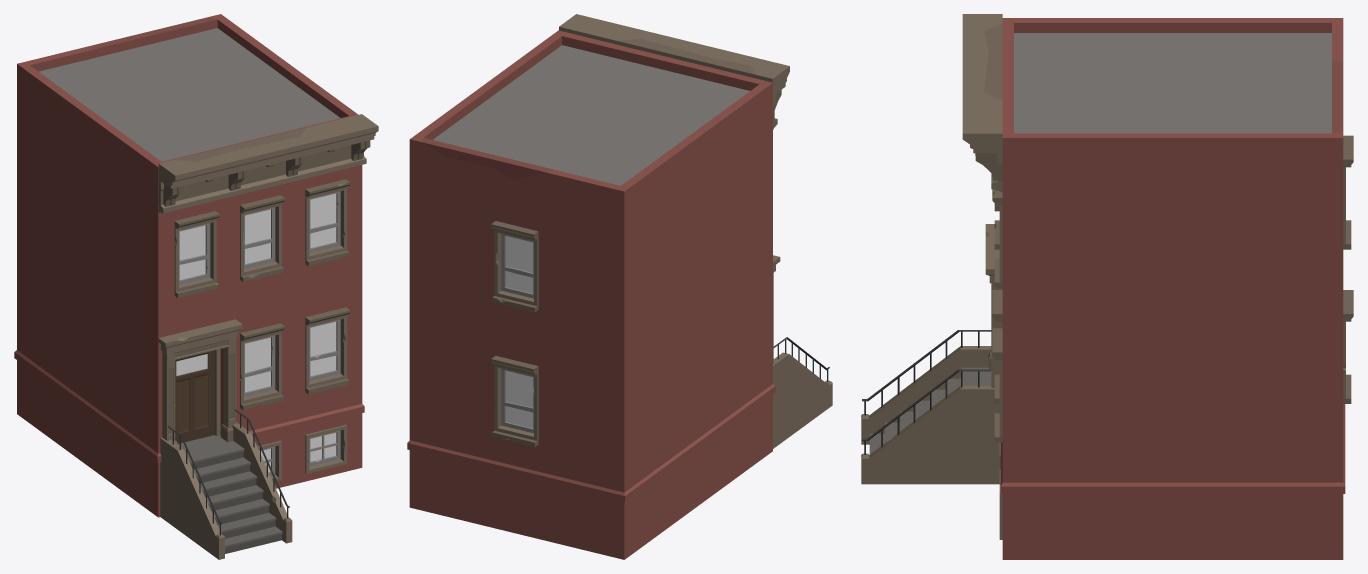
Rendered from SM_Bldg_City_Apartment_T1_2Floor_02.fbx.
3 renders of one model, left to right at view 1: azimuth 30°, elevation 25°; view 2: azimuth 150°, elevation 25°; view 3: azimuth 270°, elevation 25°, orthographic. The views are drawn at different scales.
Parts seen in each view (by area): view 1: SM_Bldg_City_Apartment_T1_2Floor_02, SM_Bldg_City_Apartment_T1_2Floor_02_Glass, SM_Bldg_City_Apartment_T1_2Floor_02_Door; view 2: SM_Bldg_City_Apartment_T1_2Floor_02, SM_Bldg_City_Apartment_T1_2Floor_02_Glass; view 3: SM_Bldg_City_Apartment_T1_2Floor_02.
Part boxes in pixels (bbox=[...]): SM_Bldg_City_Apartment_T1_2Floor_02: bbox=[14, 14, 378, 559]; SM_Bldg_City_Apartment_T1_2Floor_02_Glass: bbox=[179, 193, 336, 471]; SM_Bldg_City_Apartment_T1_2Floor_02_Door: bbox=[175, 350, 214, 443]; SM_Bldg_City_Apartment_T1_2Floor_02: bbox=[407, 14, 832, 559]; SM_Bldg_City_Apartment_T1_2Floor_02_Glass: bbox=[506, 236, 533, 428]; SM_Bldg_City_Apartment_T1_2Floor_02: bbox=[861, 14, 1353, 559].
Size of the model in its own units: 507 by 828 by 867.
